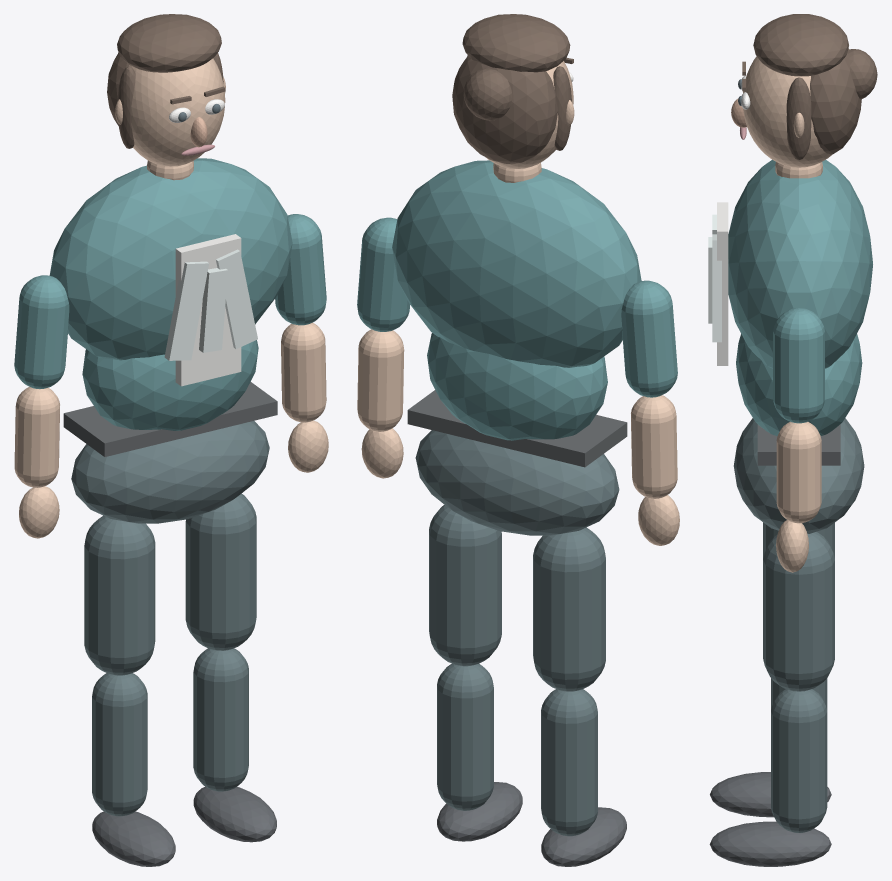
Rendered from receptionist.glb.
The picture shows the model from 3 angles, left to right: view 1: azimuth 30°, elevation 25°; view 2: azimuth 150°, elevation 25°; view 3: azimuth 270°, elevation 25°; orthographic projection. The views are drawn at different scales.
Visible parts, largest first — view 1: Chest, Hips, LeftUpLeg, RightUpLeg, Spine, RightLeg, LeftLeg, Head, LeftArm, HairTop, Belt, LeftForeArm (+13 smaller); view 2: Chest, Hips, Spine, LeftUpLeg, RightUpLeg, LeftLeg, RightLeg, HairBack, LeftArm, Belt, HairTop, LeftForeArm (+10 smaller); view 3: Chest, RightUpLeg, RightLeg, Hips, RightArm, Spine, HairTop, Head, RightForeArm, RightFoot, HairBack, LeftFoot (+10 smaller).
Boxes of the visible parts, <box> form: Chest: <box>49,158,292,360</box>; Hips: <box>71,421,269,523</box>; LeftUpLeg: <box>84,515,155,675</box>; RightUpLeg: <box>185,493,256,650</box>; Spine: <box>82,340,258,430</box>; RightLeg: <box>193,648,248,791</box>; LeftLeg: <box>92,673,147,816</box>; Head: <box>128,58,225,166</box>; LeftArm: <box>14,275,69,389</box>; HairTop: <box>117,14,221,72</box>; Belt: <box>63,382,277,456</box>; LeftForeArm: <box>14,387,59,487</box>; Chest: <box>392,160,641,367</box>; Hips: <box>415,430,619,535</box>; Spine: <box>427,333,607,440</box>; LeftUpLeg: <box>533,527,605,691</box>; RightUpLeg: <box>429,505,501,666</box>; LeftLeg: <box>541,689,597,836</box>; RightLeg: <box>437,663,493,810</box>; HairBack: <box>452,56,558,163</box>; LeftArm: <box>621,280,677,397</box>; Belt: <box>407,390,627,467</box>; HairTop: <box>462,14,570,72</box>; LeftForeArm: <box>631,395,677,498</box>; Chest: <box>728,159,872,368</box>; RightUpLeg: <box>763,531,834,691</box>; RightLeg: <box>771,689,827,832</box>; Hips: <box>733,418,864,533</box>; RightArm: <box>773,308,824,423</box>; Spine: <box>736,334,862,435</box>; HairTop: <box>753,14,848,76</box>; Head: <box>743,56,832,167</box>; RightForeArm: <box>776,421,821,523</box>; RightFoot: <box>709,821,831,866</box>; HairBack: <box>810,48,861,154</box>; LeftFoot: <box>710,772,831,817</box>.
Bounding box in the file's own units: 0.8163 × 2.06 × 0.388.
